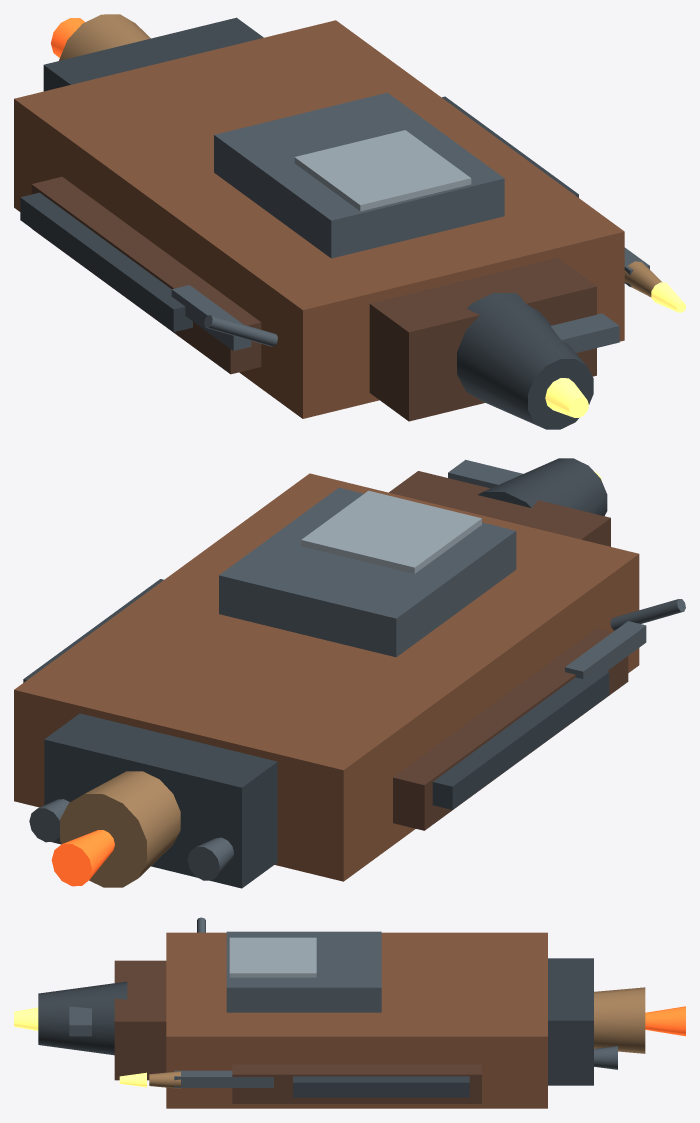
File: smallcraft_v1.glb
3 views of the same model, one above another, from view 1: azimuth 30°, elevation 25°; view 2: azimuth 150°, elevation 25°; view 3: azimuth 270°, elevation 25° (orthographic). The views are drawn at different scales.
Visible parts, largest first — view 1: smallcraft_v1; view 2: smallcraft_v1; view 3: smallcraft_v1.
Part boxes in pixels (x1,y1,x2,y2): smallcraft_v1: (14, 14, 685, 429); smallcraft_v1: (14, 458, 685, 888); smallcraft_v1: (14, 917, 685, 1108).
Size of the model in its own units: 4.47 by 1.62 by 8.89.
